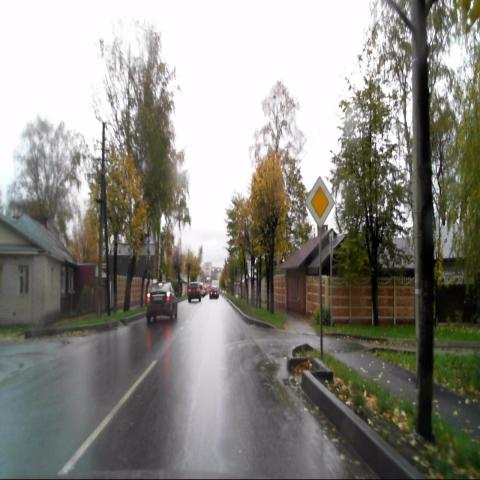2_1: (305, 177, 334, 228)
